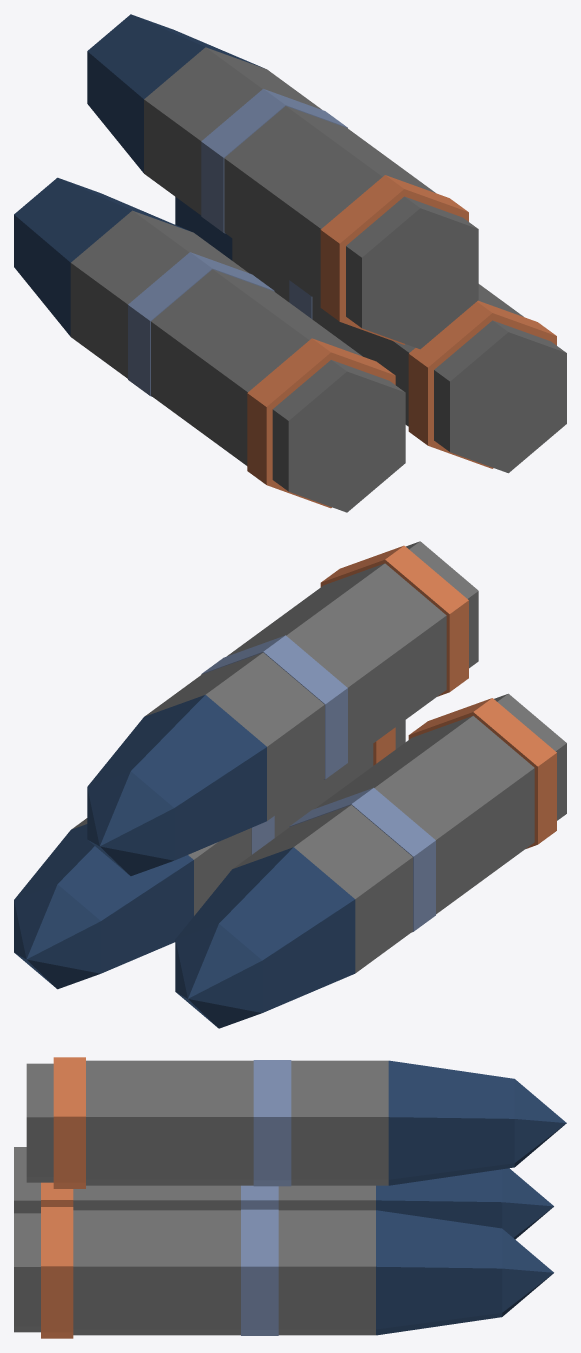
Rendered from ce_ammo_artillery_anti_b.obj.
The picture shows the model from 3 angles, top to bottom: view 1: azimuth 30°, elevation 25°; view 2: azimuth 150°, elevation 25°; view 3: azimuth 270°, elevation 25°; orthographic projection. The views are drawn at different scales.
Visible parts, largest first — view 1: ce_ammo_artillery_anti_b_16, ce_ammo_artillery_anti_b_2, ce_ammo_artillery_anti_b_0, ce_ammo_artillery_anti_b_7, ce_ammo_artillery_anti_b_14, ce_ammo_artillery_anti_b_18, ce_ammo_artillery_anti_b_4, ce_ammo_artillery_anti_b_5, ce_ammo_artillery_anti_b_19, ce_ammo_artillery_anti_b_1, ce_ammo_artillery_anti_b_15, ce_ammo_artillery_anti_b_8 (+5 smaller); view 2: ce_ammo_artillery_anti_b_16, ce_ammo_artillery_anti_b_2, ce_ammo_artillery_anti_b_5, ce_ammo_artillery_anti_b_19, ce_ammo_artillery_anti_b_12, ce_ammo_artillery_anti_b_18, ce_ammo_artillery_anti_b_4, ce_ammo_artillery_anti_b_6, ce_ammo_artillery_anti_b_20, ce_ammo_artillery_anti_b_13, ce_ammo_artillery_anti_b_1, ce_ammo_artillery_anti_b_15 (+6 smaller); view 3: ce_ammo_artillery_anti_b_9, ce_ammo_artillery_anti_b_16, ce_ammo_artillery_anti_b_19, ce_ammo_artillery_anti_b_12, ce_ammo_artillery_anti_b_18, ce_ammo_artillery_anti_b_11, ce_ammo_artillery_anti_b_5, ce_ammo_artillery_anti_b_17, ce_ammo_artillery_anti_b_10, ce_ammo_artillery_anti_b_8, ce_ammo_artillery_anti_b_15, ce_ammo_artillery_anti_b_2 (+9 smaller).
Part boxes in pixels (x1,y1,x2,y2): ce_ammo_artillery_anti_b_16: [224, 106, 435, 302]; ce_ammo_artillery_anti_b_2: [151, 269, 362, 465]; ce_ammo_artillery_anti_b_0: [272, 360, 405, 512]; ce_ammo_artillery_anti_b_7: [434, 320, 566, 473]; ce_ammo_artillery_anti_b_14: [346, 196, 478, 349]; ce_ammo_artillery_anti_b_18: [144, 47, 321, 215]; ce_ammo_artillery_anti_b_4: [70, 210, 248, 378]; ce_ammo_artillery_anti_b_5: [14, 177, 190, 336]; ce_ammo_artillery_anti_b_19: [87, 14, 264, 172]; ce_ammo_artillery_anti_b_1: [247, 338, 395, 508]; ce_ammo_artillery_anti_b_15: [320, 175, 468, 344]; ce_ammo_artillery_anti_b_8: [408, 300, 556, 468]; ce_ammo_artillery_anti_b_16: [227, 563, 446, 761]; ce_ammo_artillery_anti_b_2: [315, 716, 534, 914]; ce_ammo_artillery_anti_b_5: [176, 847, 355, 1012]; ce_ammo_artillery_anti_b_19: [88, 695, 266, 860]; ce_ammo_artillery_anti_b_12: [14, 824, 193, 973]; ce_ammo_artillery_anti_b_18: [145, 652, 324, 820]; ce_ammo_artillery_anti_b_4: [233, 805, 412, 973]; ce_ammo_artillery_anti_b_6: [175, 923, 262, 1028]; ce_ammo_artillery_anti_b_20: [87, 771, 174, 875]; ce_ammo_artillery_anti_b_13: [14, 884, 100, 989]; ce_ammo_artillery_anti_b_1: [408, 698, 556, 848]; ce_ammo_artillery_anti_b_15: [320, 545, 468, 696]; ce_ammo_artillery_anti_b_9: [73, 1210, 240, 1335]; ce_ammo_artillery_anti_b_16: [86, 1060, 253, 1185]; ce_ammo_artillery_anti_b_19: [388, 1060, 514, 1185]; ce_ammo_artillery_anti_b_12: [376, 1210, 502, 1335]; ce_ammo_artillery_anti_b_18: [291, 1060, 388, 1185]; ce_ammo_artillery_anti_b_11: [278, 1210, 375, 1335]; ce_ammo_artillery_anti_b_5: [376, 1169, 502, 1228]; ce_ammo_artillery_anti_b_17: [253, 1060, 291, 1186]; ce_ammo_artillery_anti_b_10: [241, 1209, 278, 1335]; ce_ammo_artillery_anti_b_8: [41, 1207, 73, 1338]; ce_ammo_artillery_anti_b_15: [53, 1057, 85, 1188]; ce_ammo_artillery_anti_b_2: [73, 1185, 240, 1210].
Size of the model in its own units: 0.45 by 0.4355 by 0.88.
